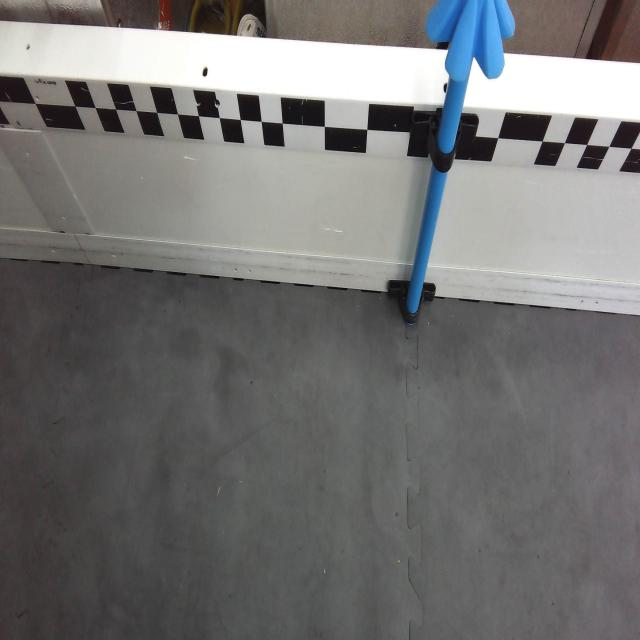zblue-Stake-Head: (426, 0, 518, 80)
